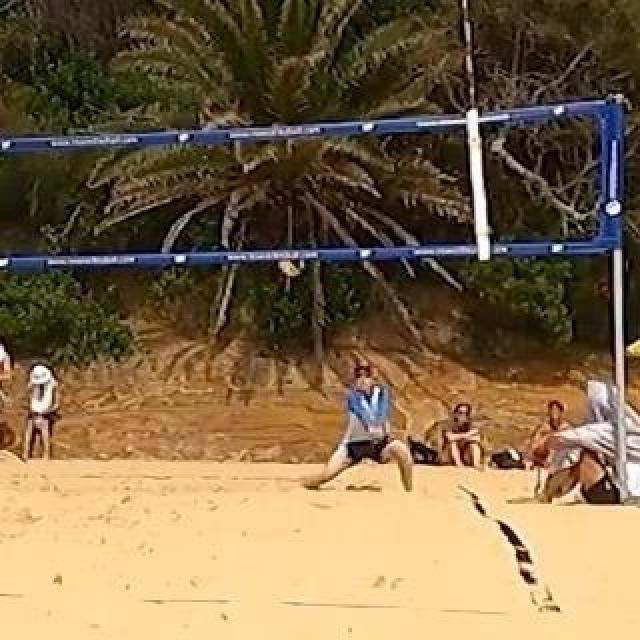volleyball: (278, 248, 304, 276)
